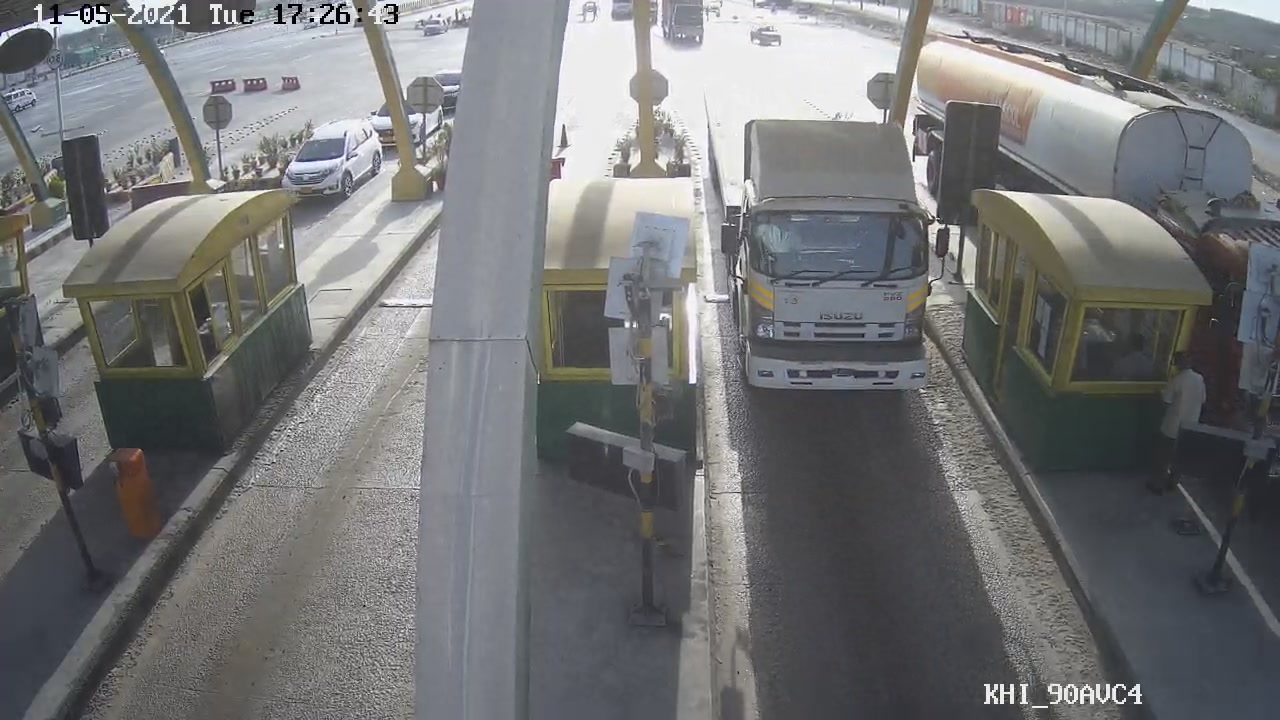F6: (698, 112, 963, 411)
